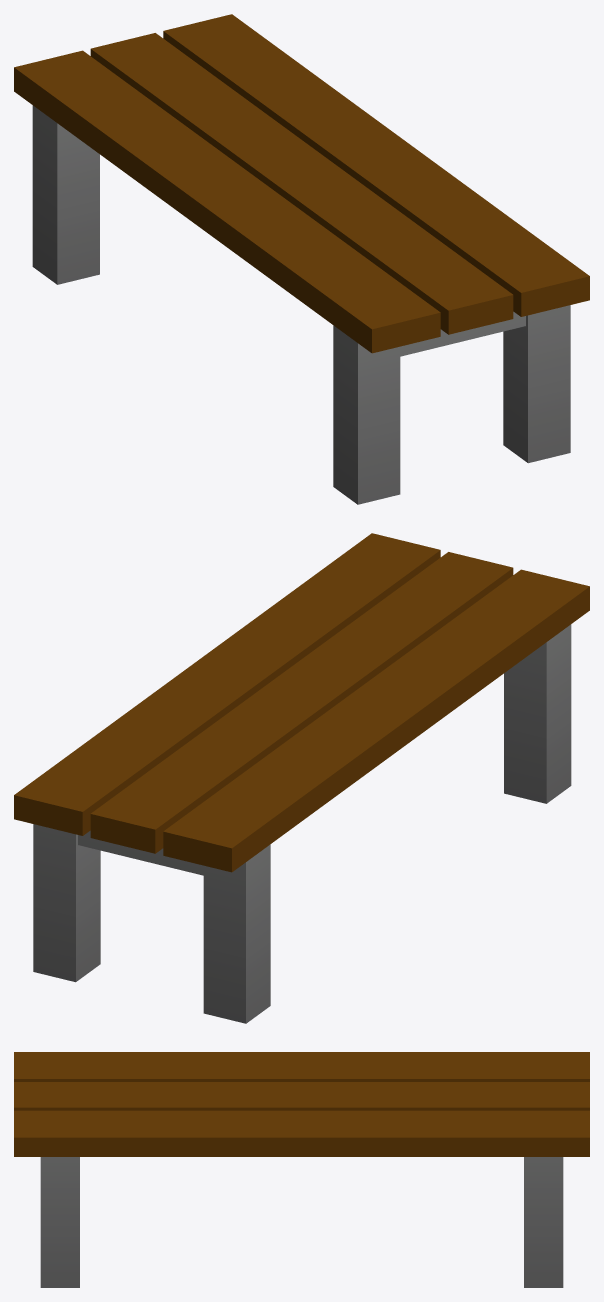
The model's file is Bench_1_D_4.glb.
3 views of the same model, one above another, from view 1: azimuth 30°, elevation 25°; view 2: azimuth 150°, elevation 25°; view 3: azimuth 270°, elevation 25° (orthographic). The views are drawn at different scales.
Parts seen in each view (by area): view 1: Bench_1_D_4; view 2: Bench_1_D_4; view 3: Bench_1_D_4.
Part boxes in pixels (box(x1,y1,x2,y2)): Bench_1_D_4: box(14, 14, 589, 504); Bench_1_D_4: box(14, 533, 589, 1023); Bench_1_D_4: box(14, 1052, 589, 1287).
Size of the model in its own units: 0.4068 by 0.3354 by 1.16.
Materials: 2 (2 with a texture image).
